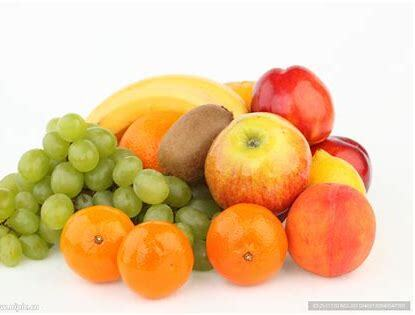apple: (206, 111, 311, 217), (250, 66, 333, 147)
banana: (87, 73, 248, 147)
orange: (207, 204, 289, 289), (62, 205, 137, 284), (118, 220, 192, 299)
